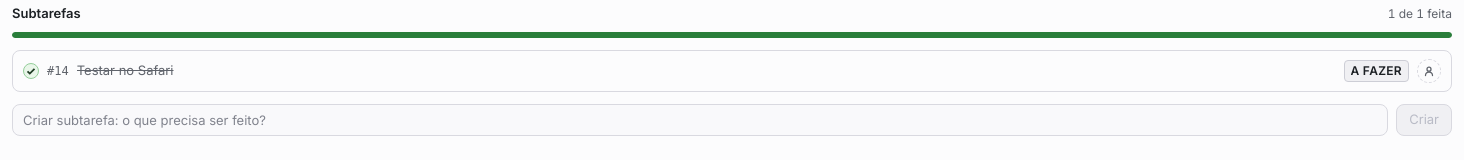
Test: as subtarefas do card aberto › o circulo da feita reabre: volta para a primeira coluna
Click the button named "Reabrir #14": x=31, y=70 [23, 62, 39, 78]
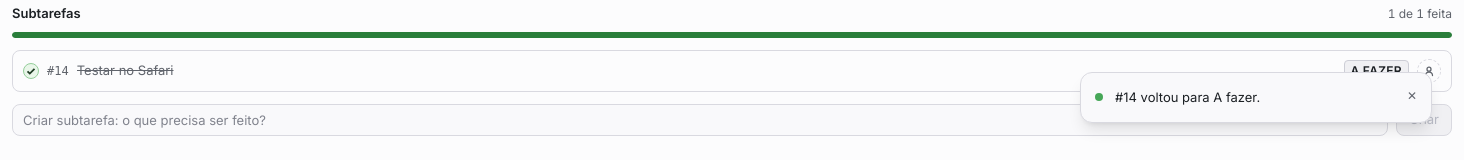
Expected: the text "#14 voltou para A fazer." is shown, [1115, 89, 1260, 105]
